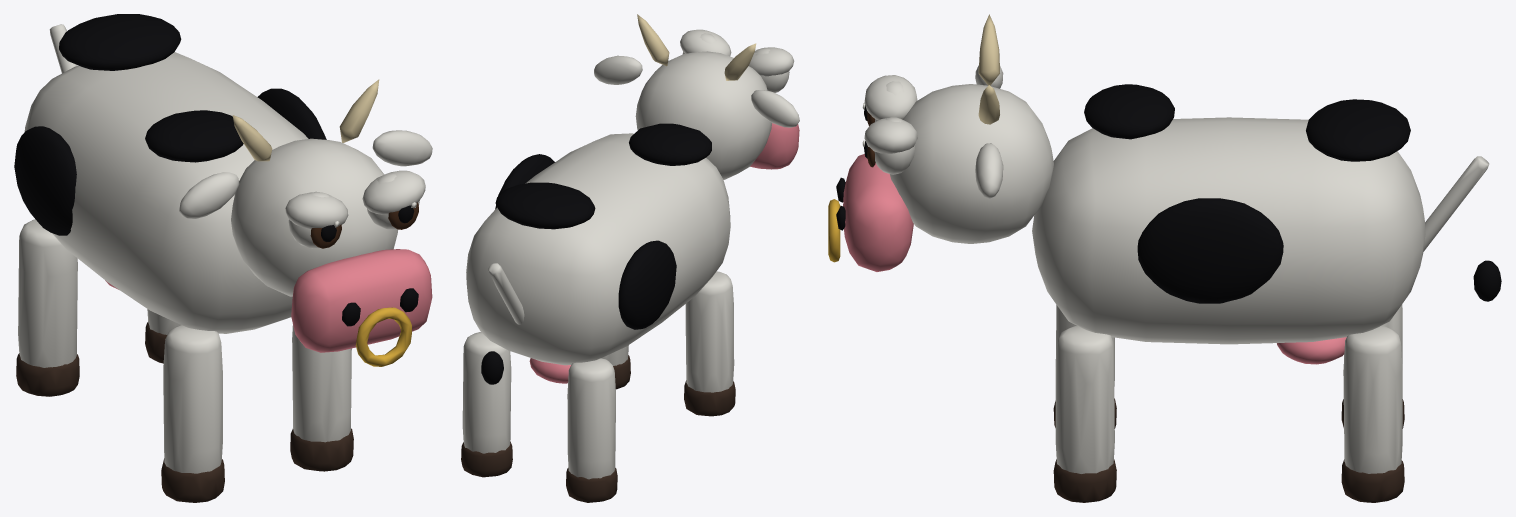
Rendered from Kuh.fbx.
3 views of the same model, side by side, from view 1: azimuth 30°, elevation 25°; view 2: azimuth 150°, elevation 25°; view 3: azimuth 270°, elevation 25° (orthographic). The views are drawn at different scales.
Visible parts, largest first — view 1: Kuh; view 2: Kuh; view 3: Kuh.
Boxes of the visible parts, box(x1,y1,x2,y2) form: Kuh: box(14, 14, 432, 502); Kuh: box(461, 14, 799, 502); Kuh: box(828, 14, 1501, 502).
Bounding box in the file's own units: 0.7817 × 1.23 × 1.82.
